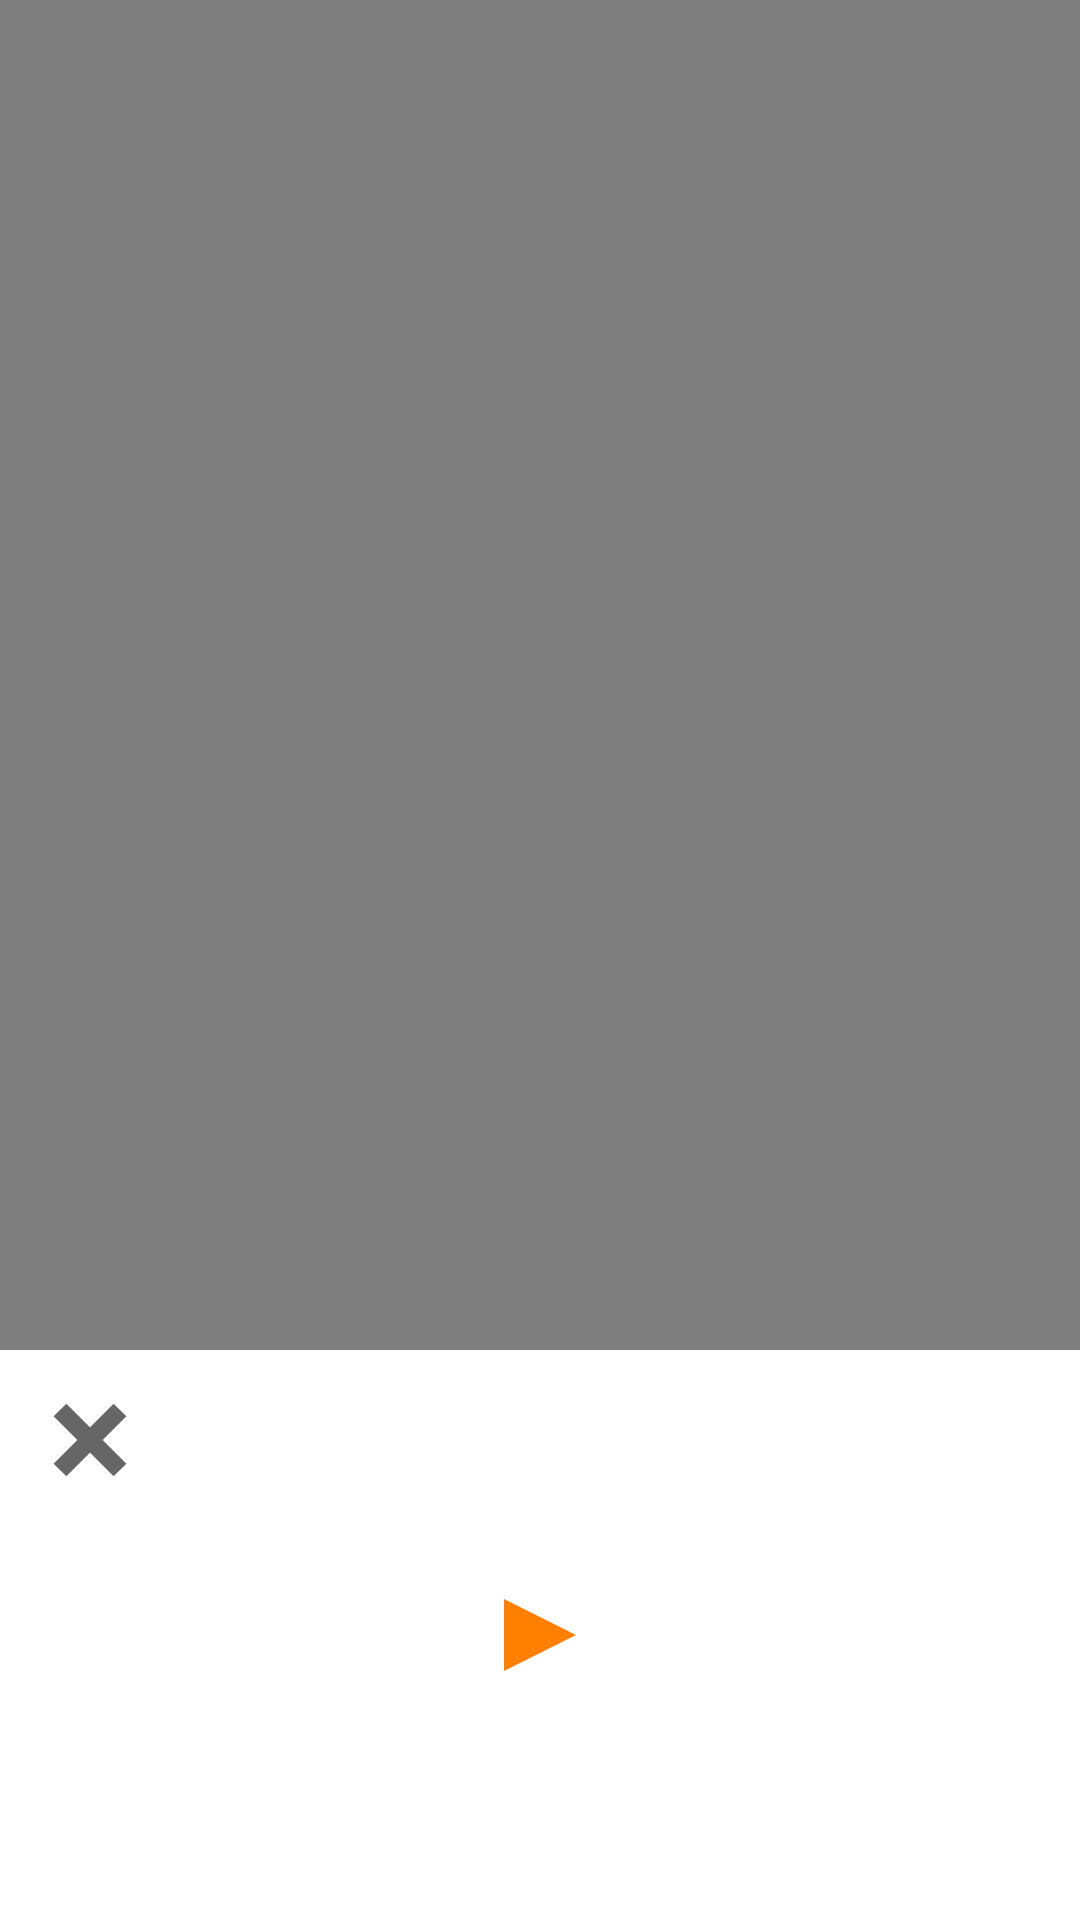

Named icons in this screenshot (1080×1920) and their bounding boxes, (x1, y1, x2, y2):
play: (504, 1599, 576, 1671)
